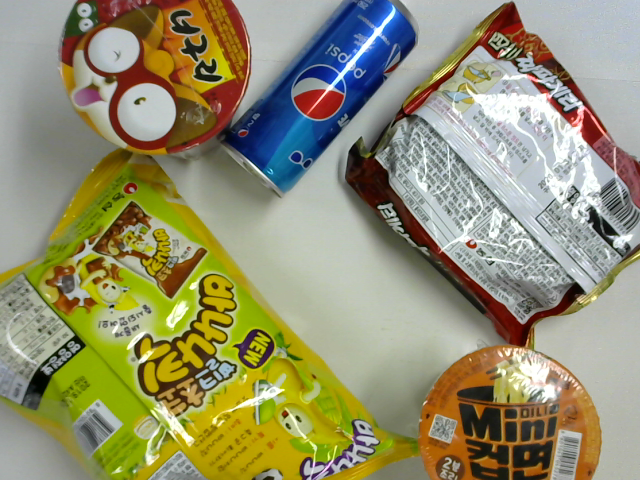Banana_Kick: (2, 149, 418, 480)
Pepsi_Cola_Can_250ml: (220, 1, 421, 199)
Raccoon: (58, 1, 256, 157)
Sichuan_Chapaghetti: (346, 12, 640, 351)
Udongmini: (416, 345, 603, 480)
